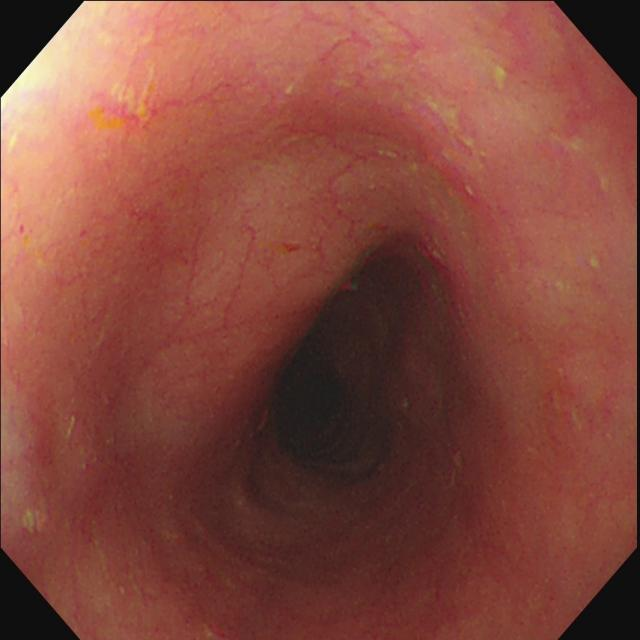E: (282, 335, 379, 464)
